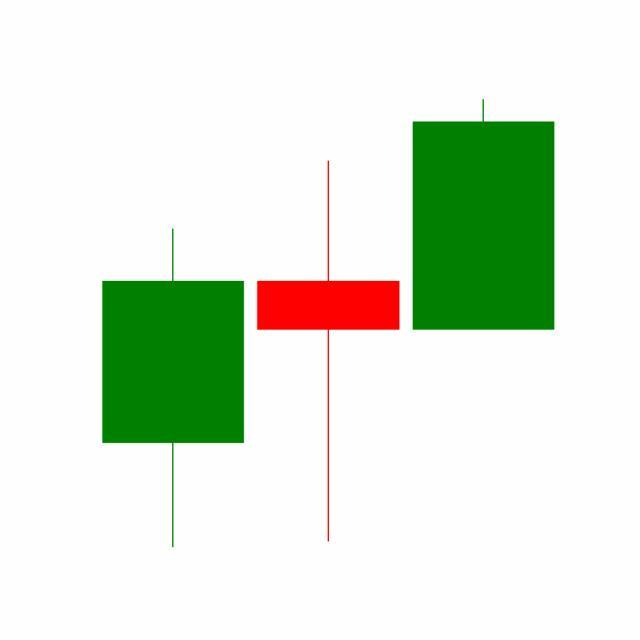Marubozu: (406, 97, 562, 333)
